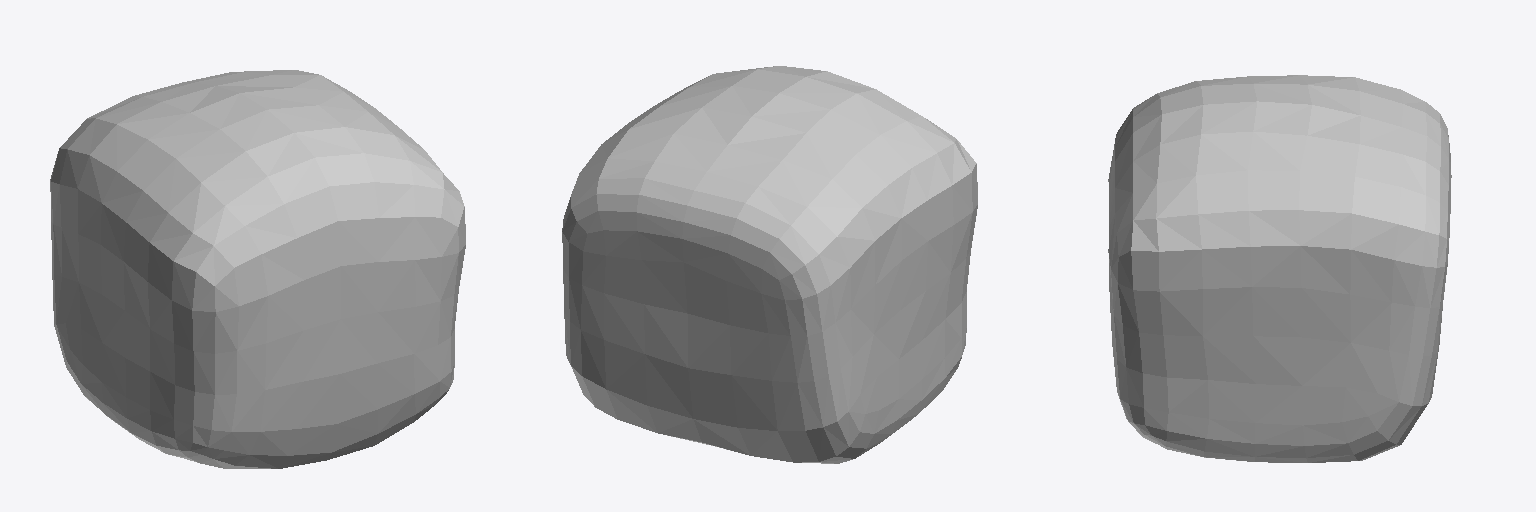
Rendered from block_raw.obj.
The picture shows the model from 3 angles: view 1: azimuth 30°, elevation 25°; view 2: azimuth 150°, elevation 25°; view 3: azimuth 270°, elevation 25°; orthographic projection.
Parts seen in each view (by area): view 1: Block_raw; view 2: Block_raw; view 3: Block_raw.
Boxes of the visible parts, <box> form: Block_raw: <box>50,70,465,468</box>; Block_raw: <box>562,66,977,463</box>; Block_raw: <box>1108,75,1451,462</box>.
Size of the model in its own units: 207 by 208 by 209.